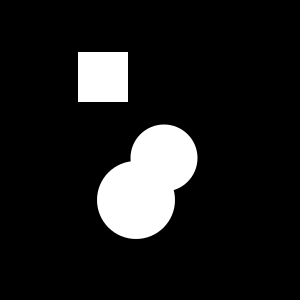circle: (78, 52, 128, 102)
rectangle: (97, 161, 175, 239), (130, 124, 198, 192)
